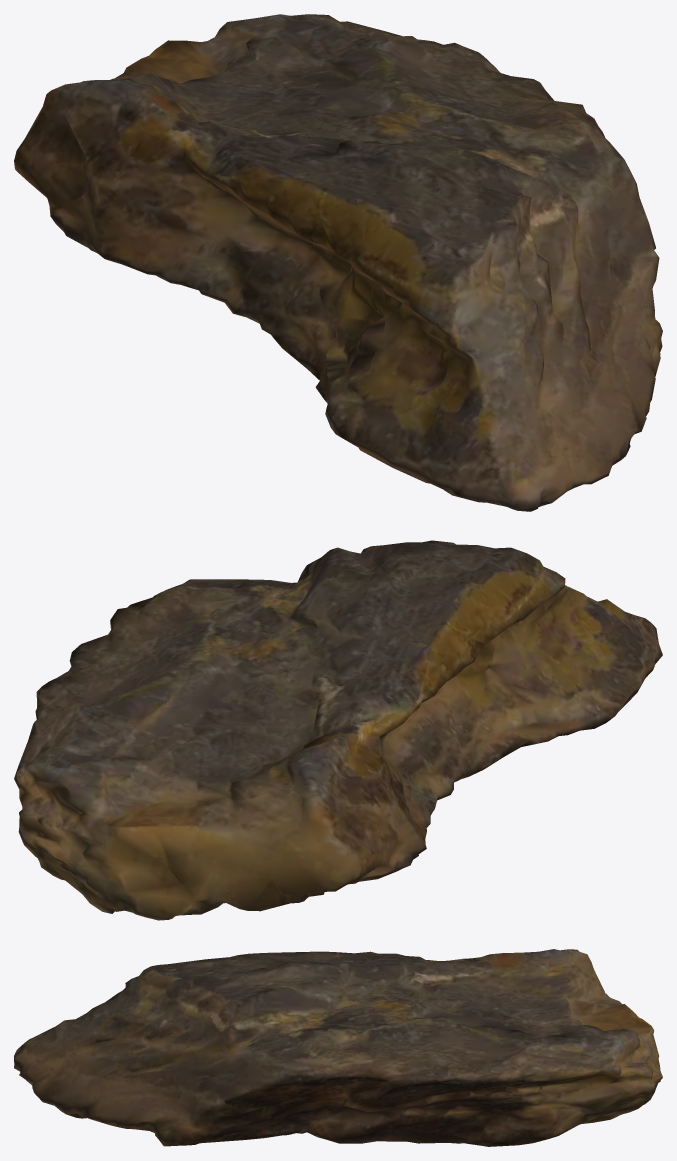
File: rock_09.glb
3 views of the same model, one above another, from view 1: azimuth 30°, elevation 25°; view 2: azimuth 150°, elevation 25°; view 3: azimuth 270°, elevation 25° (orthographic). The views are drawn at different scales.
Parts seen in each view (by area): view 1: rock_09_LOD0; view 2: rock_09_LOD0; view 3: rock_09_LOD0.
Part boxes in pixels (<box>): rock_09_LOD0: <box>14,14,662,511</box>; rock_09_LOD0: <box>14,540,662,920</box>; rock_09_LOD0: <box>14,949,662,1146</box>.
Size of the model in its own units: 0.074 by 0.0328 by 0.1446.
Materials: 1 (1 with a texture image).
